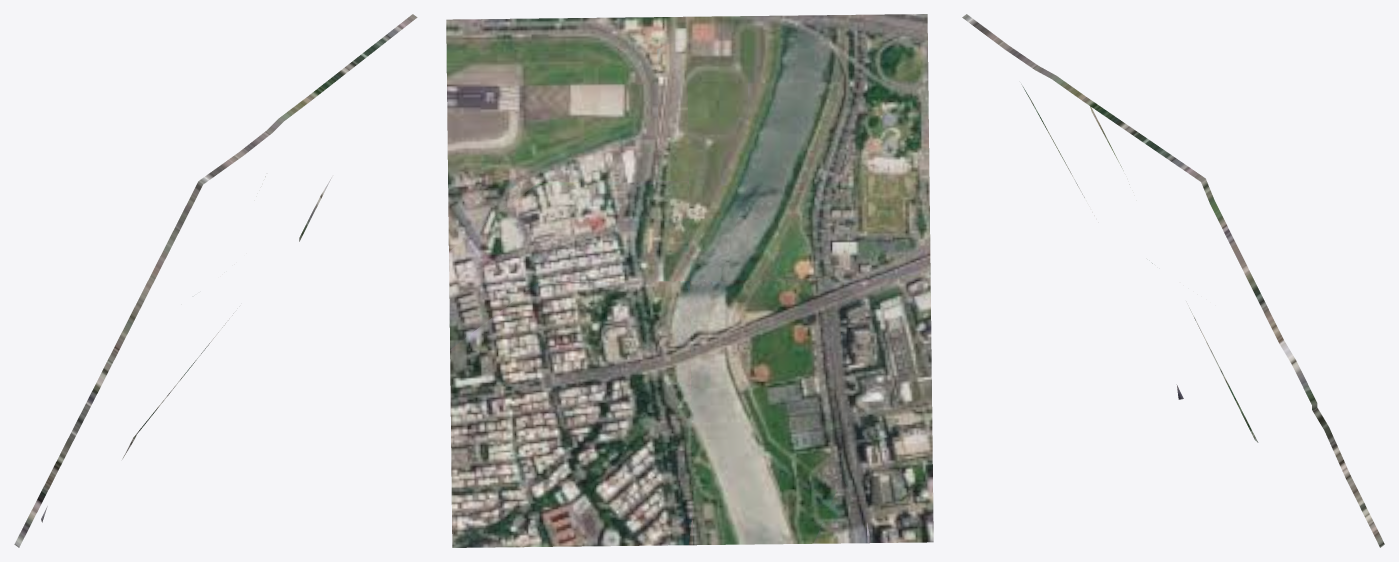
3 renders of one model, left to right at view 1: azimuth 30°, elevation 25°; view 2: azimuth 150°, elevation 25°; view 3: azimuth 270°, elevation 25°, orthographic. The views are drawn at different scales.
Size of the model in its own units: 1222 by 1112 by 1027.
Materials: 1 (1 with a texture image).
